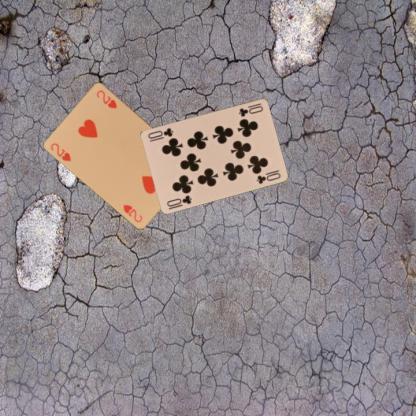10c: (236, 100, 265, 118), (164, 192, 194, 208)
2h: (48, 140, 72, 162)
